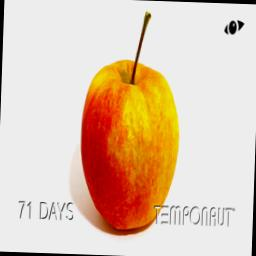Apple Ripe: (77, 0, 185, 234)
